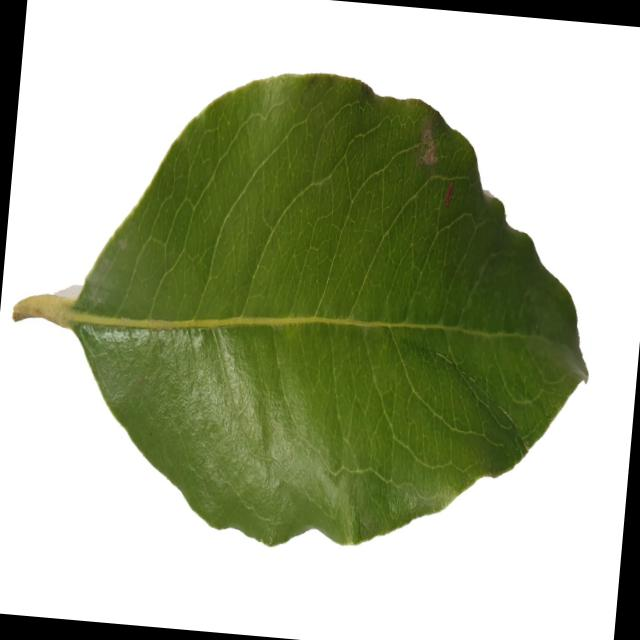Medicinal-Sandalwood: (0, 47, 613, 572)
